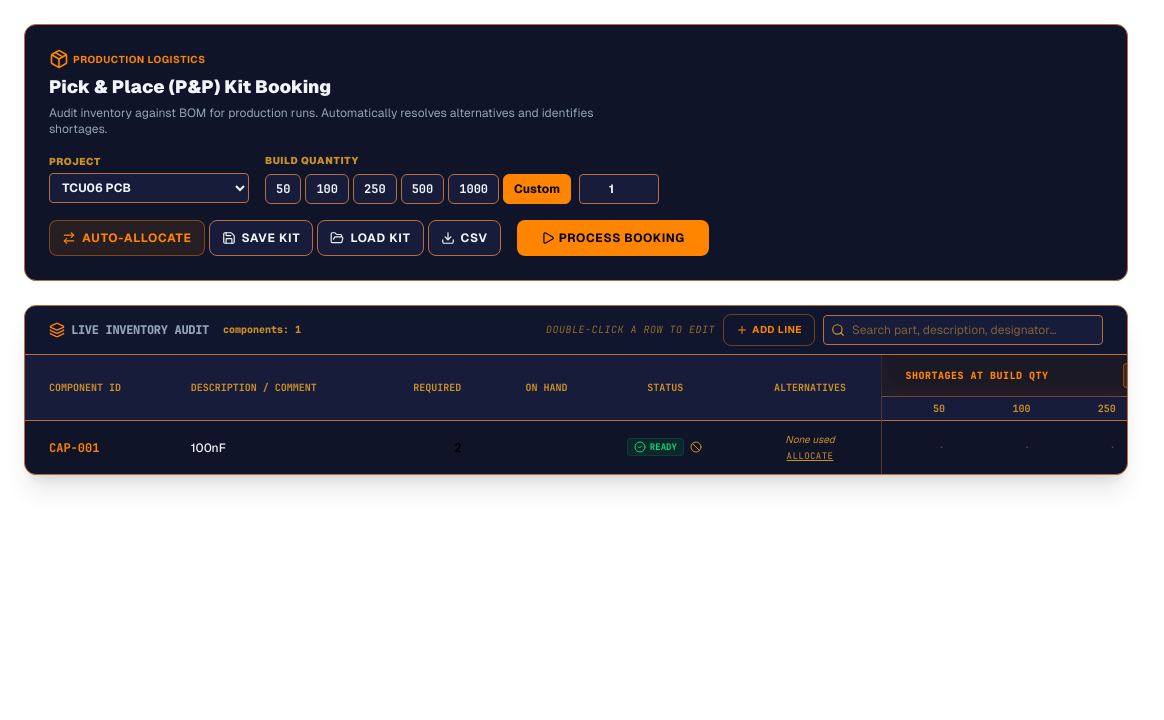
Test: Auto-allocate › fills by tier for the build quantity chosen, and refills when it changes
What coordinates should you click on to do the following:
click the button "50"
I would click on:
 (283, 189)
Its box is [265,174,301,204].
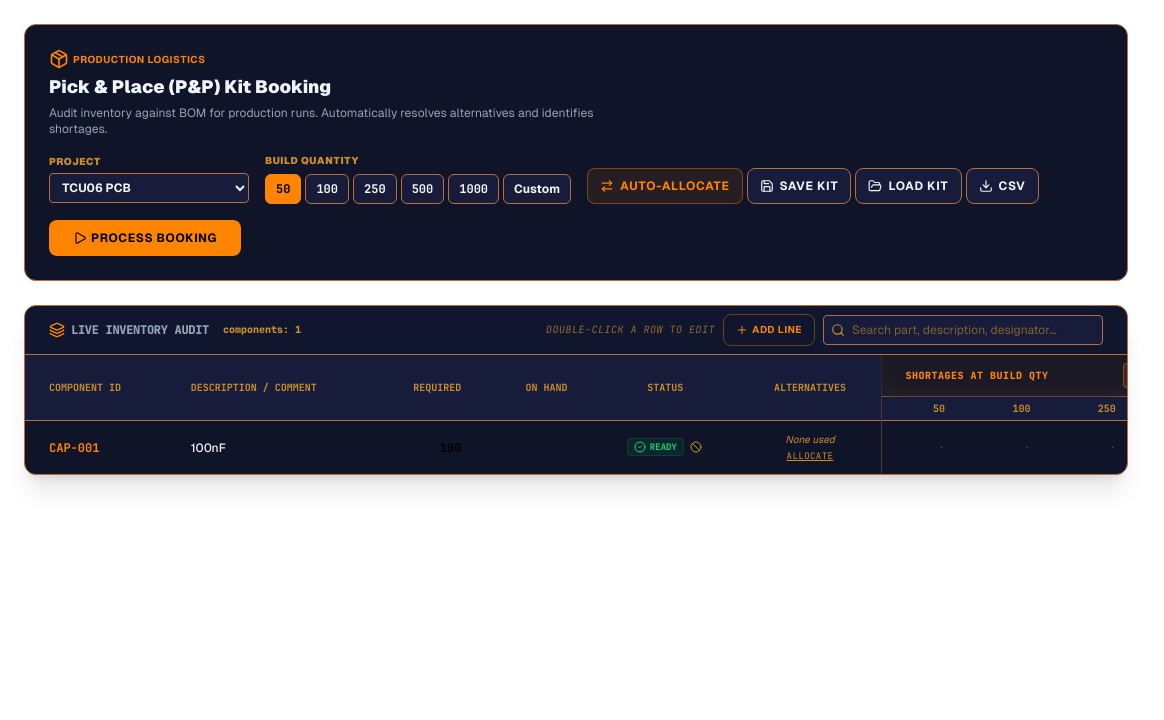
What coordinates should you click on to do the following:
click the button "Auto-allocate"
I would click on:
 (665, 186)
Its box is [587,168,742,204].
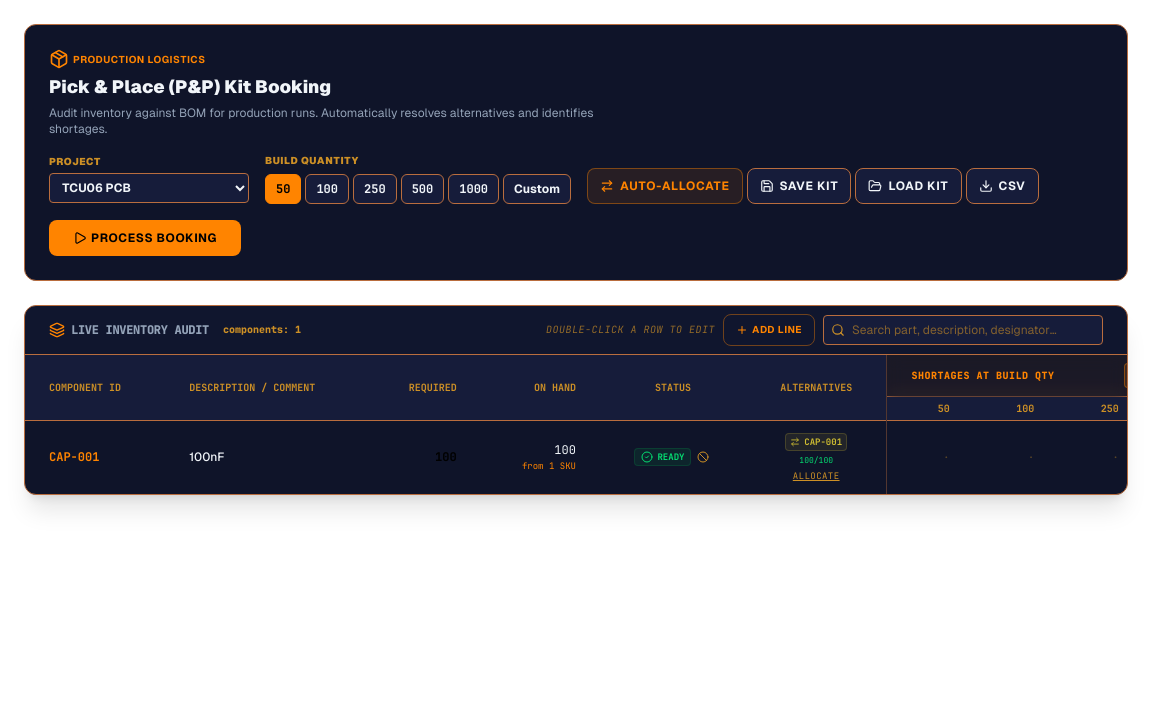
# 1000 boards need 2000: CAP-001's 400 then CAP-009's 300, still short.
What coordinates should you click on to do the following:
click the button "1000"
I would click on:
 (474, 189)
Its box is [448,174,499,204].
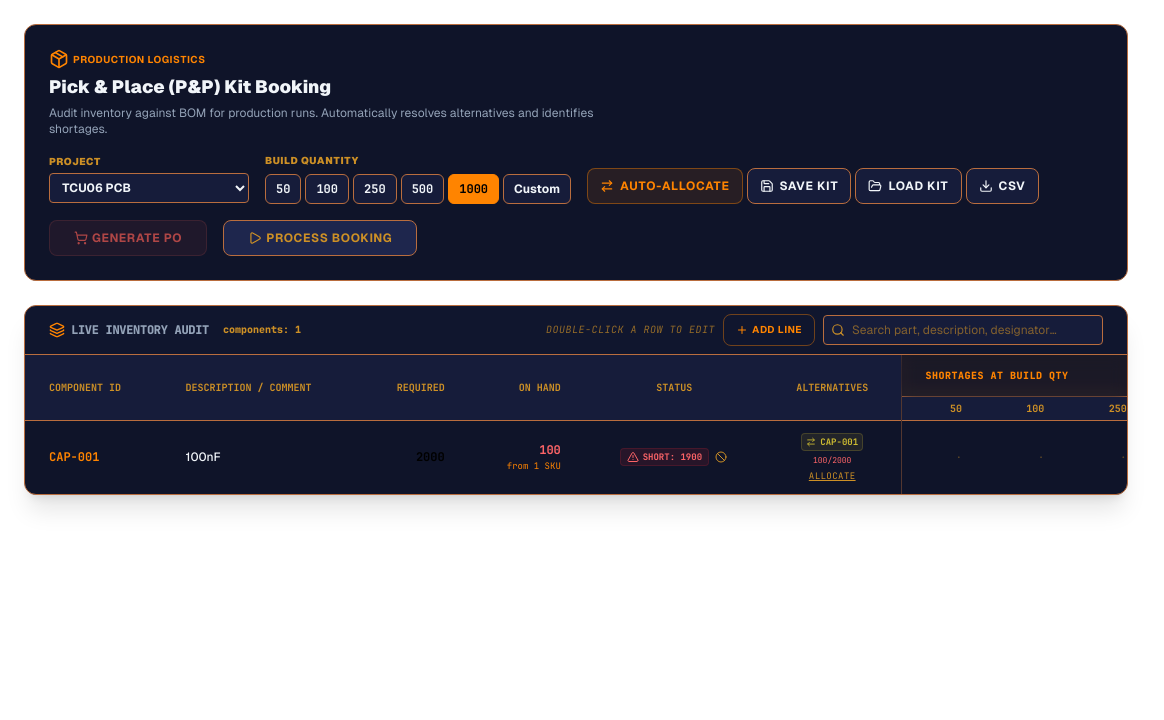
What coordinates should you click on to do the following:
click the button "Auto-allocate"
I would click on:
 (665, 186)
Its box is [587,168,742,204].
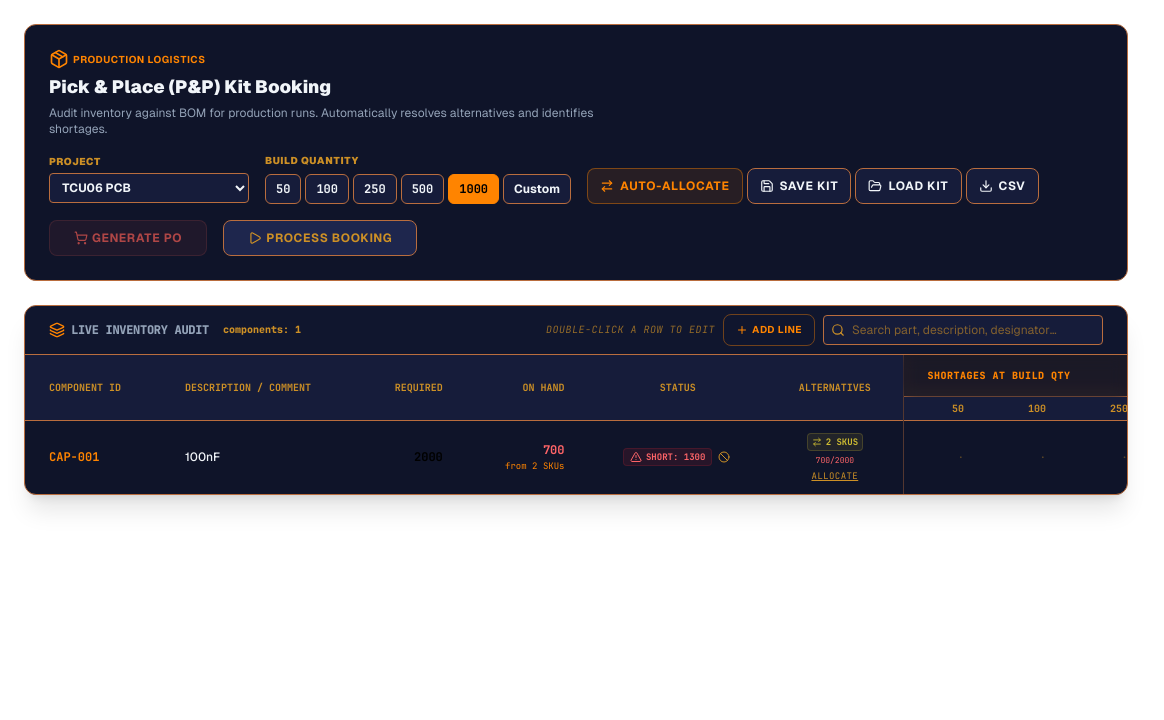
Expected: the text "700/2000" is shown, [816,455,854,466]
